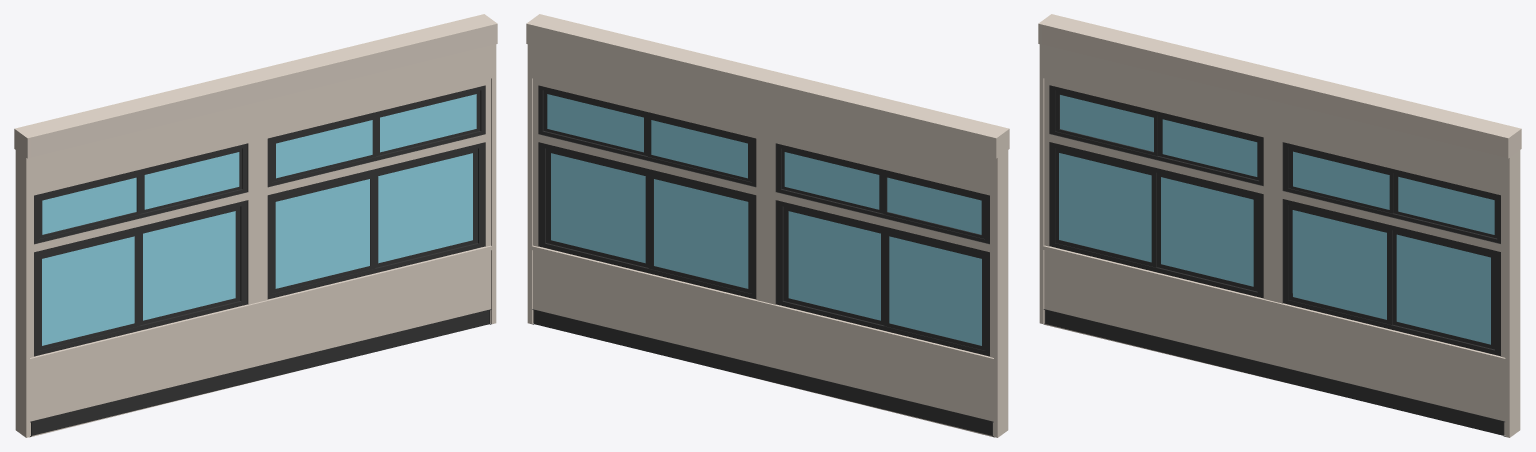
The model's file is SCH0110029.fbx.
The picture shows the model from 3 angles, left to right: view 1: azimuth 30°, elevation 25°; view 2: azimuth 150°, elevation 25°; view 3: azimuth 330°, elevation 25°; orthographic projection.
Visible parts, largest first — view 1: smSCH0110029; view 2: smSCH0110029; view 3: smSCH0110029.
Boxes of the visible parts, left/top/right/bottom form: smSCH0110029: left=14, top=14, right=497, bottom=437; smSCH0110029: left=526, top=14, right=1009, bottom=437; smSCH0110029: left=1038, top=14, right=1521, bottom=437.
Size of the model in its own units: 651 by 399 by 31.67.
1 material, 1 textured.
